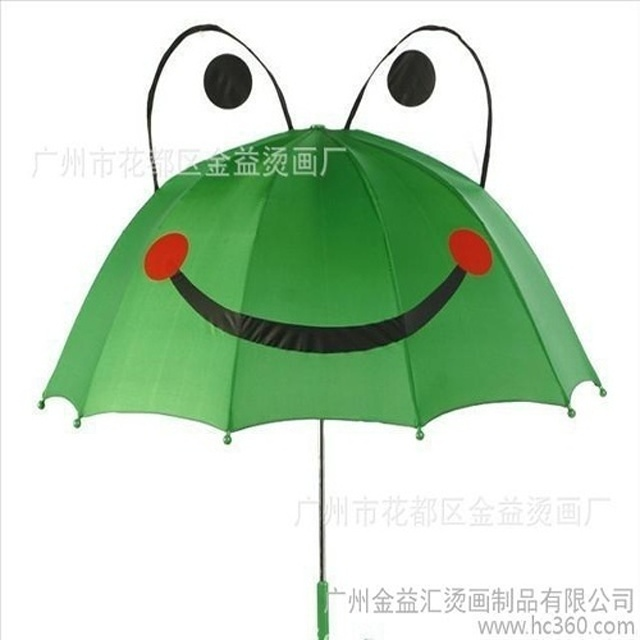umbrella: (37, 122, 610, 640)
